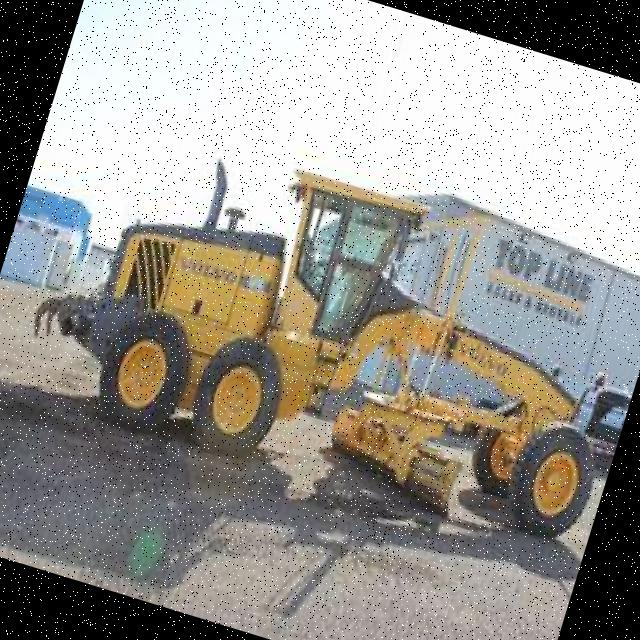Grader: (8, 53, 640, 567)
